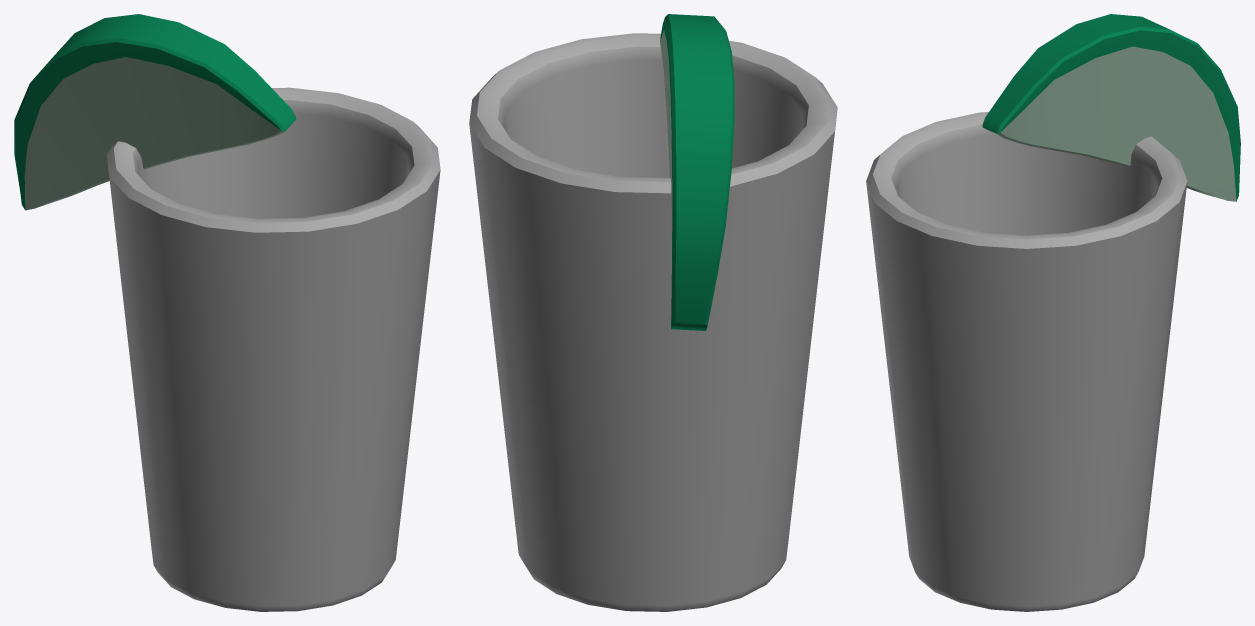
File: Caballito.fbx
The picture shows the model from 3 angles, left to right: view 1: azimuth 30°, elevation 25°; view 2: azimuth 150°, elevation 25°; view 3: azimuth 270°, elevation 25°; orthographic projection. The views are drawn at different scales.
Parts seen in each view (by area): view 1: Caballito; view 2: Caballito; view 3: Caballito.
Part boxes in pixels (<box>): Caballito: <box>14,14,440,611</box>; Caballito: <box>469,14,837,611</box>; Caballito: <box>866,14,1240,611</box>.
Bounding box in the file's own units: 38.98 × 64.02 × 43.06.
